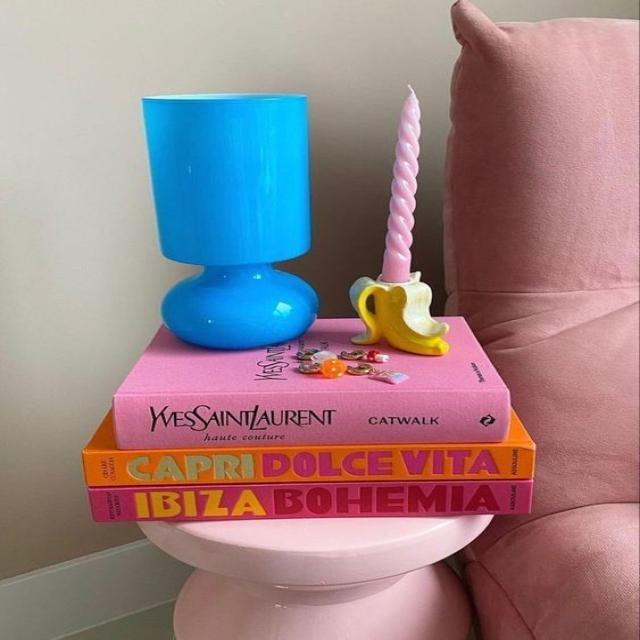book: (118, 393, 506, 445), (91, 483, 529, 522), (82, 450, 536, 479)
candle: (350, 88, 449, 356)
